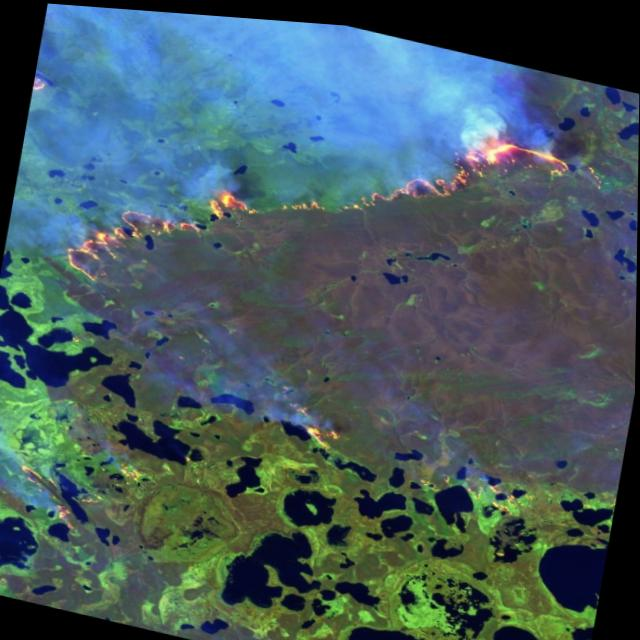fire: (54, 35, 616, 392), (0, 432, 160, 553), (411, 450, 549, 530), (260, 384, 351, 454), (31, 68, 58, 101)
